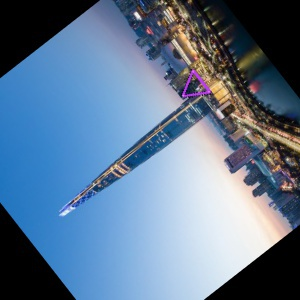triangle: (180, 67, 212, 98)
